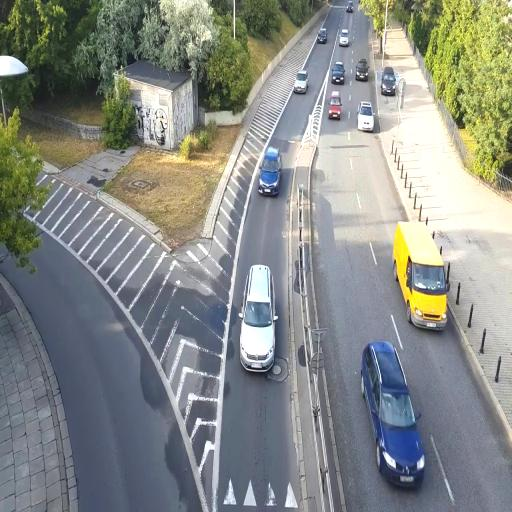vehicle: (360, 339, 427, 489), (392, 220, 450, 333), (393, 220, 449, 332), (238, 263, 276, 373), (258, 146, 281, 197), (380, 67, 398, 96), (358, 101, 374, 132), (294, 71, 309, 94), (331, 61, 345, 85), (355, 58, 369, 82), (328, 96, 342, 120), (339, 28, 351, 46), (318, 27, 328, 44)
